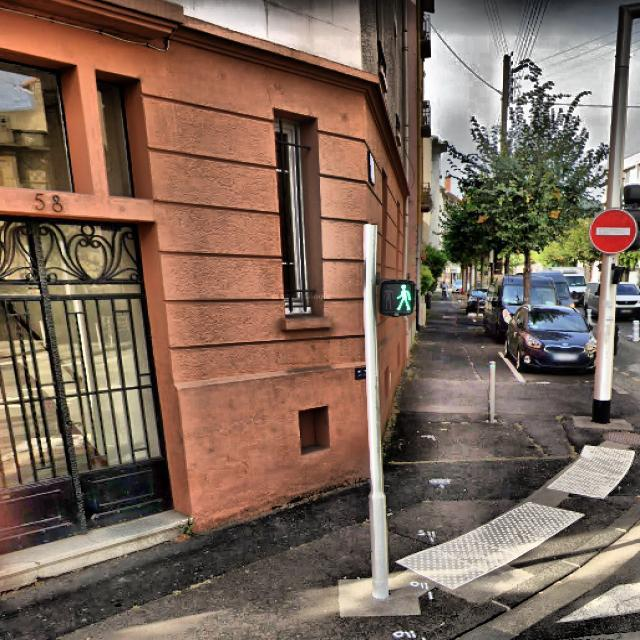green_light: (391, 280, 414, 314)
